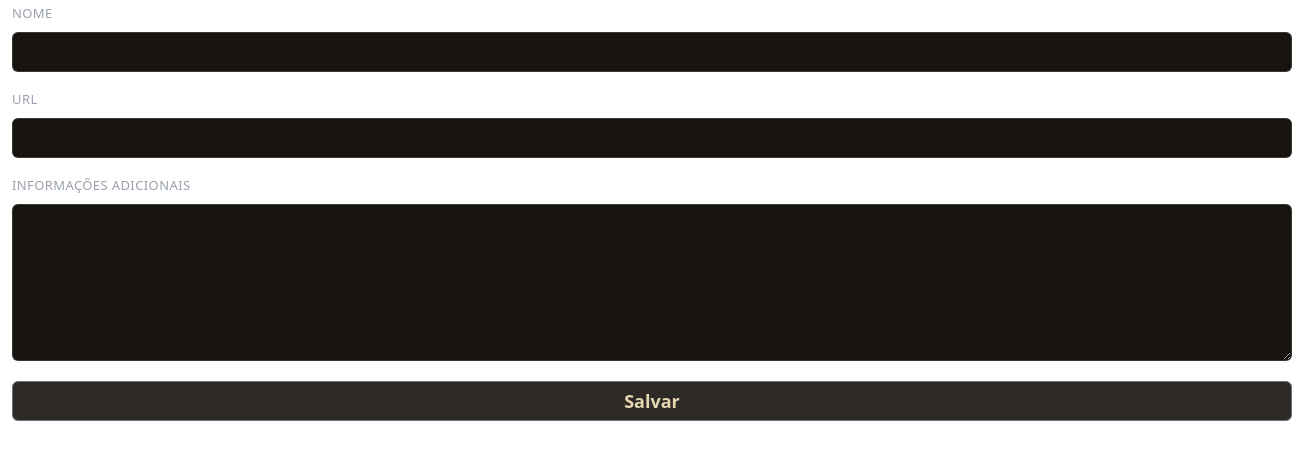
EnemyForm › alerta quando o Nome contém uma porta
Type "exemplo.com:4280" into the field labelled "Nome". click: (652, 52)
box: [12,32,1292,72]
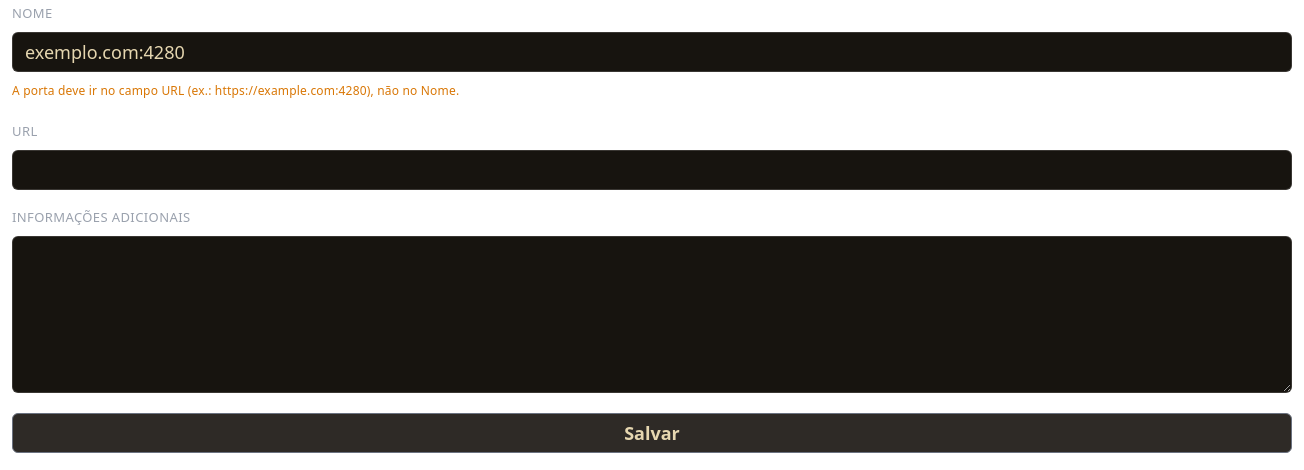
Expected: the text "A porta deve ir no campo URL" is shown, [12,82,459,99]
